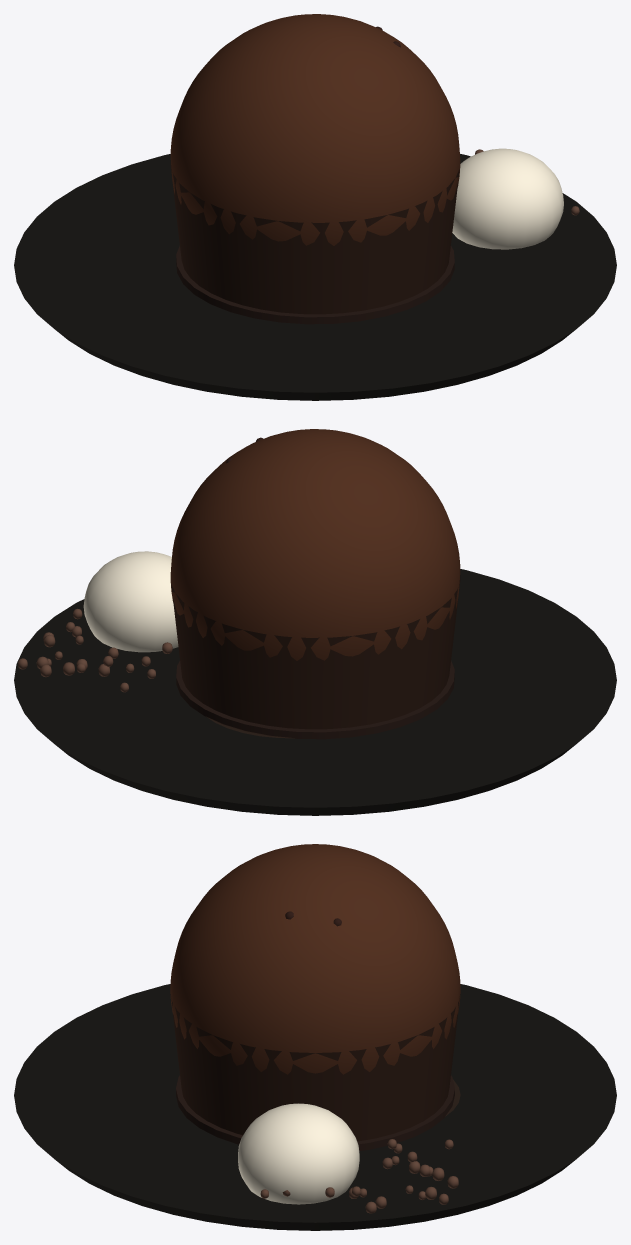
File: souffle-chocolat.glb
The picture shows the model from 3 angles, top to bottom: view 1: azimuth 30°, elevation 25°; view 2: azimuth 150°, elevation 25°; view 3: azimuth 270°, elevation 25°; orthographic projection.
Bounding box in the file's own units: 0.17 × 0.0808 × 0.17.
